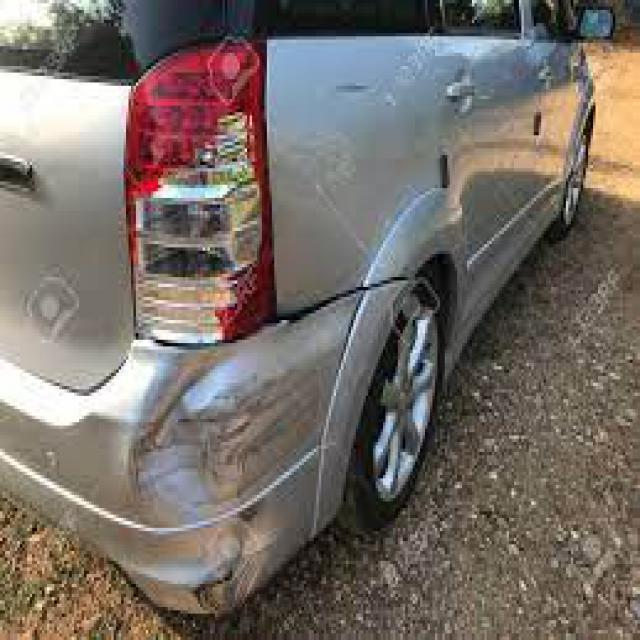Taillight-Damage: (121, 33, 277, 340)
rear-bumper-dent: (5, 313, 408, 607)
